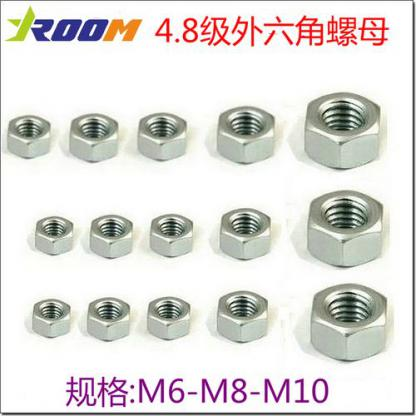FOD: (300, 188, 390, 272), (298, 91, 384, 171), (309, 281, 393, 362), (209, 103, 281, 165), (216, 205, 274, 263), (66, 108, 123, 167), (133, 105, 189, 165), (212, 289, 271, 345), (3, 108, 56, 162), (148, 210, 197, 260), (88, 210, 134, 263), (145, 295, 194, 341), (30, 213, 76, 260), (84, 295, 131, 341), (27, 296, 75, 340)
